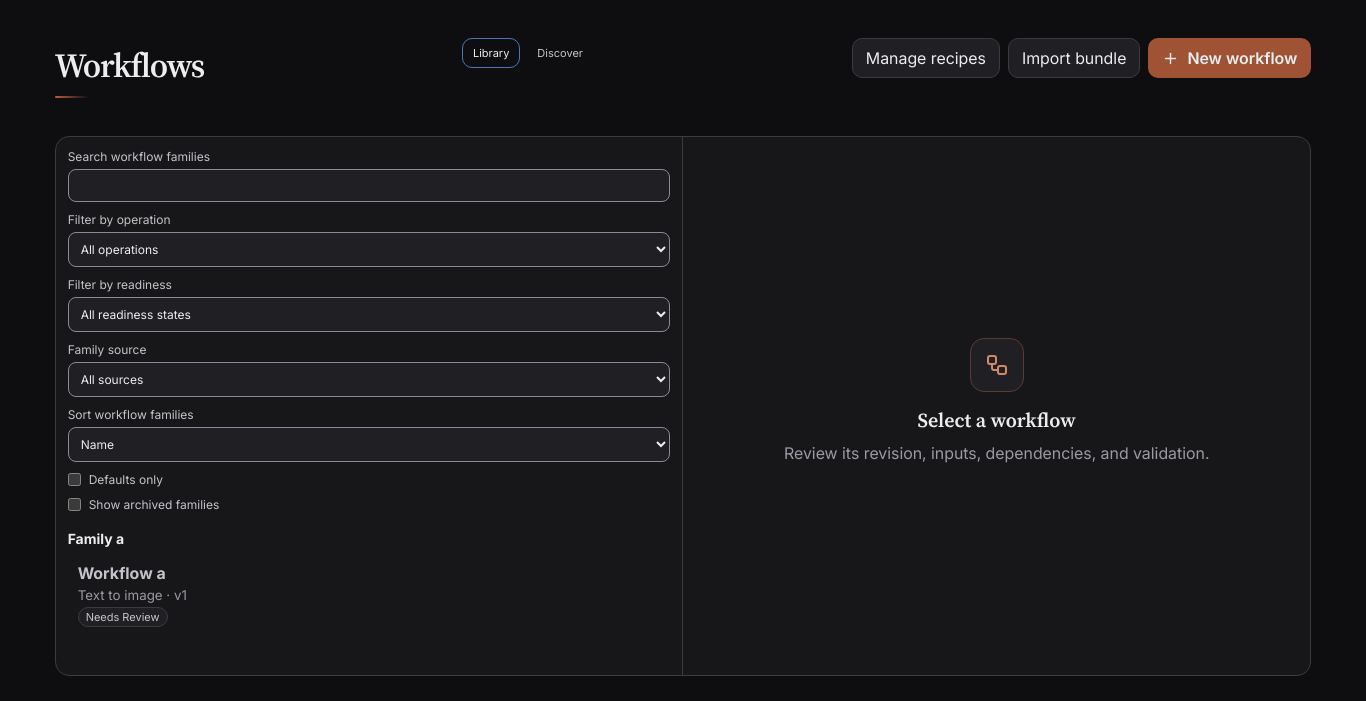
Test: browsing workflow families › re-queries archived families on the server and restores the ordinary list when unchecked
expect the heading "Family a" is shown: met, box x1=68 y1=530 x2=124 y2=547
expect the heading "Archived family" is not shown: met
Click the checkbox labelled "Show archived families". click: (74, 504)
box: x1=68 y1=498 x2=81 y2=511
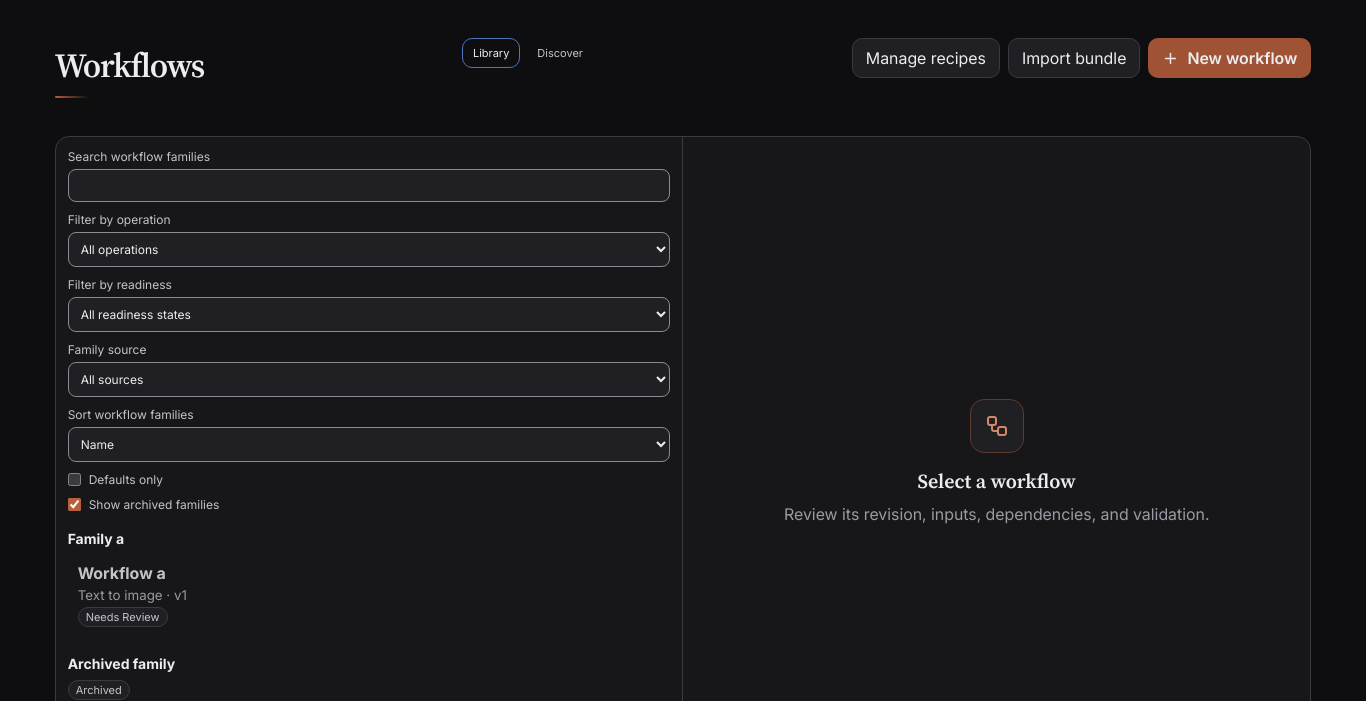
expect the heading "Archived family" is shown: met, box x1=68 y1=655 x2=175 y2=672
Click the checkbox labelled "Show archived families". click: (74, 504)
box: x1=68 y1=498 x2=81 y2=511
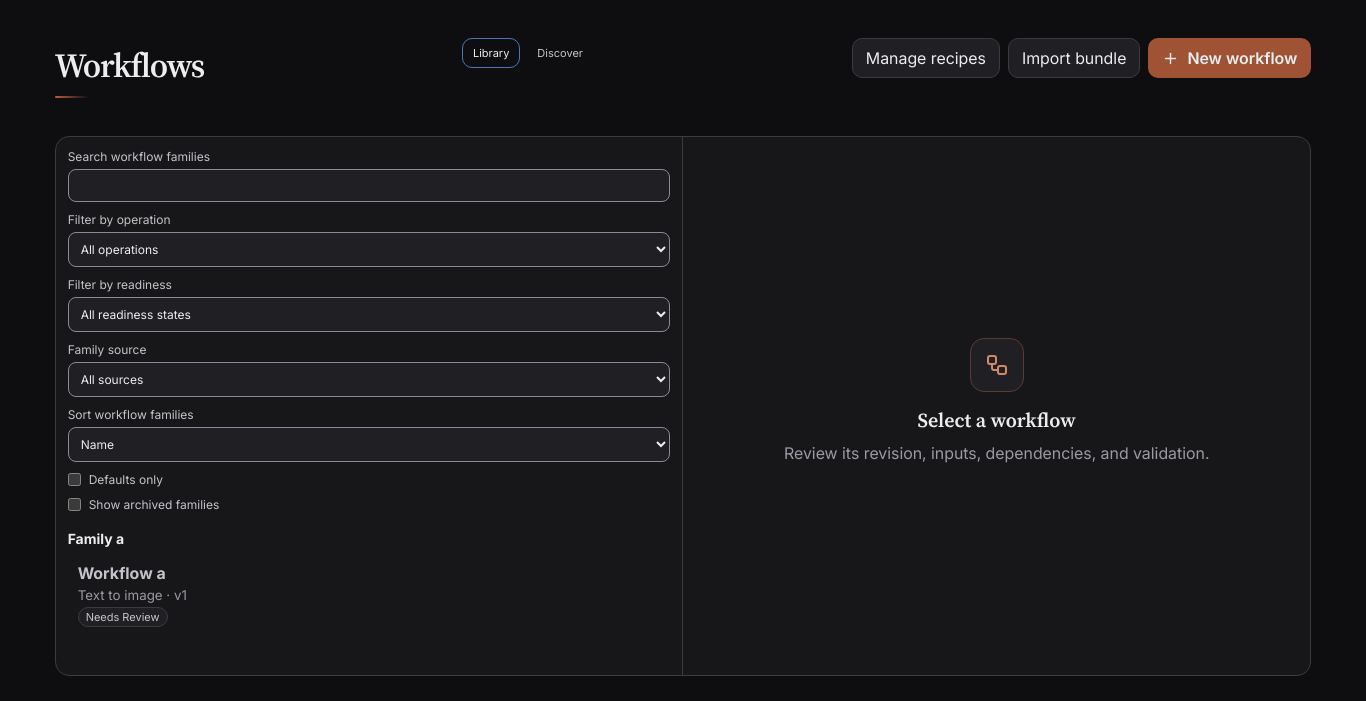
expect the heading "Archived family" is gone: met
